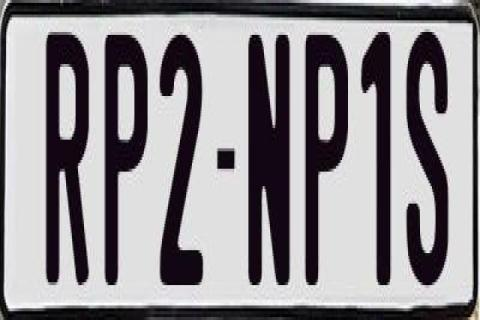0: (158, 35, 200, 291), (362, 32, 396, 291)
N: (246, 26, 290, 291)
P: (101, 26, 146, 294), (304, 26, 352, 276)
R: (44, 29, 92, 285)
S: (406, 23, 454, 276)
